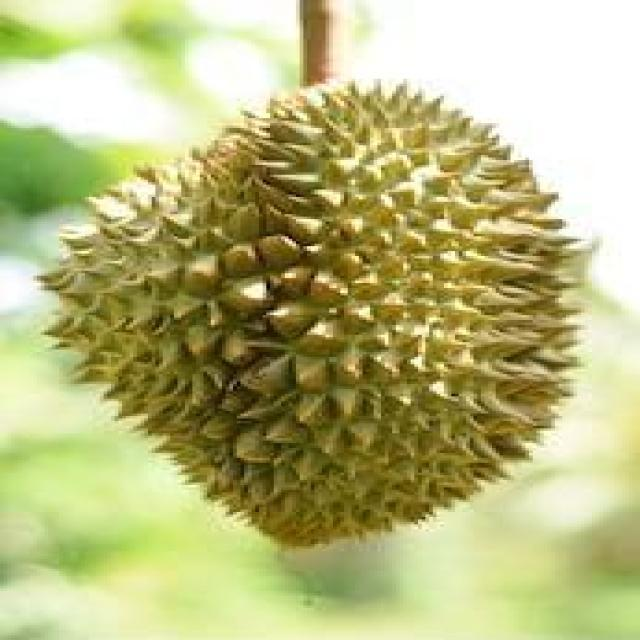mature: (34, 80, 588, 554)
